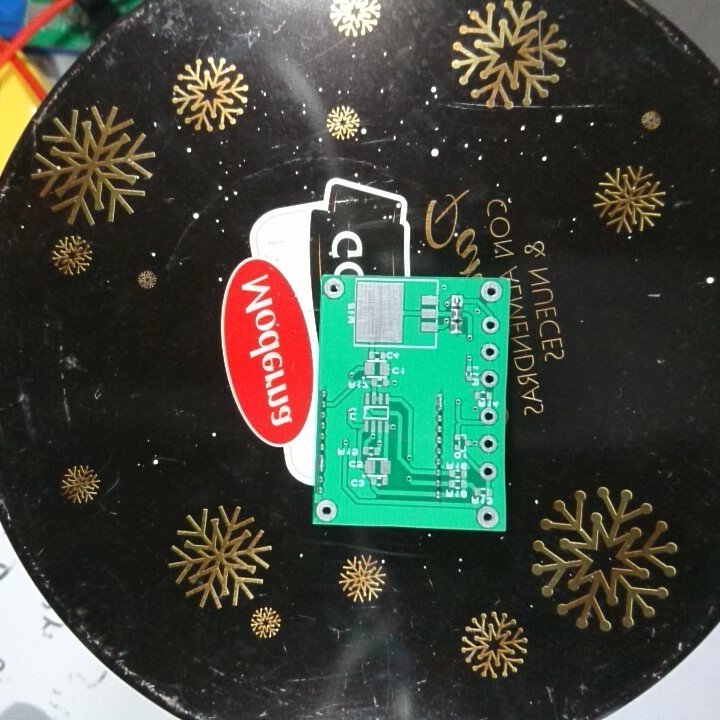F: (314, 495, 341, 523), (479, 277, 504, 306), (475, 504, 502, 530), (479, 312, 504, 340), (322, 275, 345, 303), (478, 403, 499, 431), (479, 366, 501, 391), (477, 459, 499, 483), (478, 432, 499, 457), (479, 340, 500, 363), (449, 292, 465, 309)
P: (314, 452, 330, 477), (435, 391, 447, 414)
